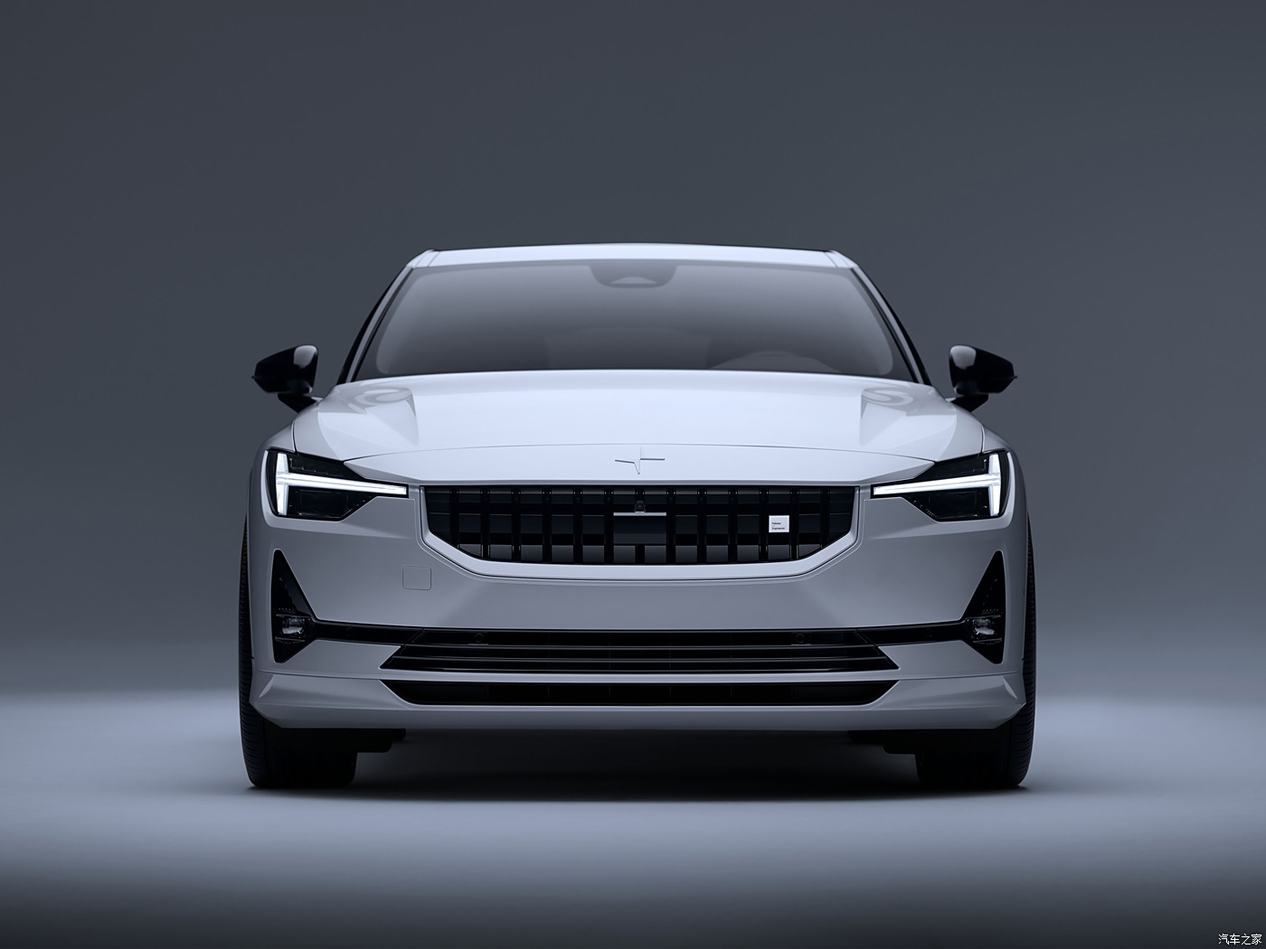Polestar: (615, 448, 665, 474)
